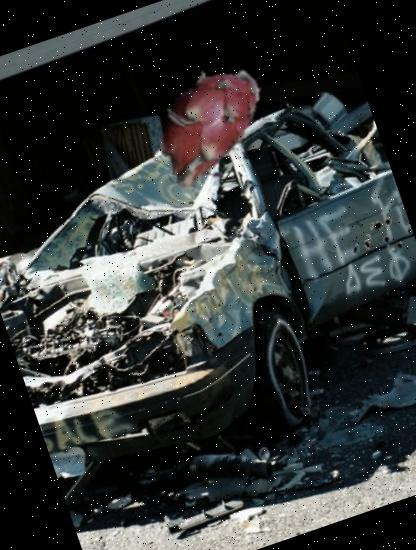Pitahaya: (125, 40, 294, 210)
